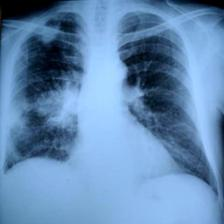tuberculosis: (2, 1, 224, 203)
